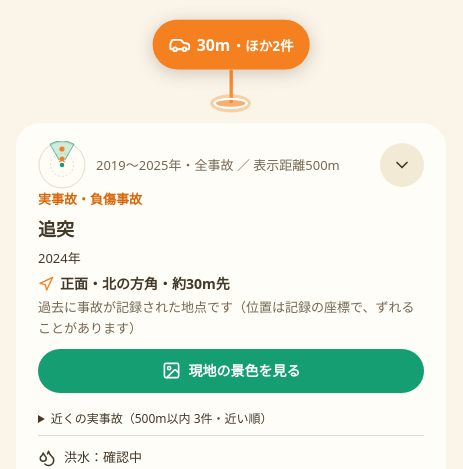
Test: AR pins that overlap on screen › shows the count and lets the far records be chosen by tapping again
The width and height of the screenshot is (463, 469).
Expected: the heading "追突" is shown, [38,217,74,241]
Click the button with aria-label "実事故 約30m・この方向に3件": (231,64) [153,20,309,109]
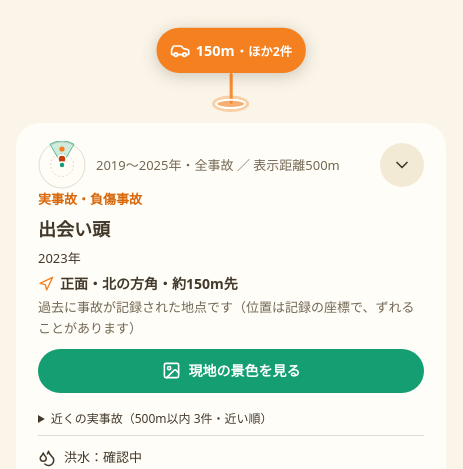
Expected: the heading "出会い頭" is shown, [38,217,110,241]
Click the button with aria-label "この方向に3件": (231,68) [156,28,306,109]
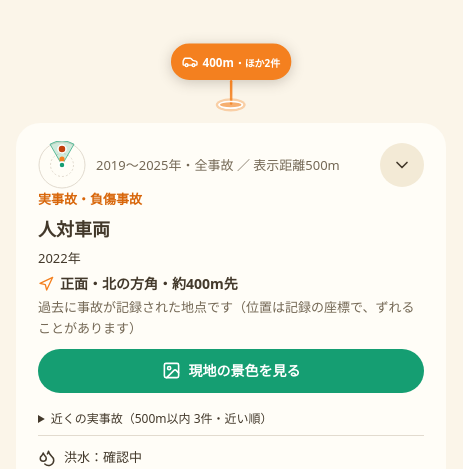
Expected: the heading "人対車両" is shown, [38,217,110,241]
